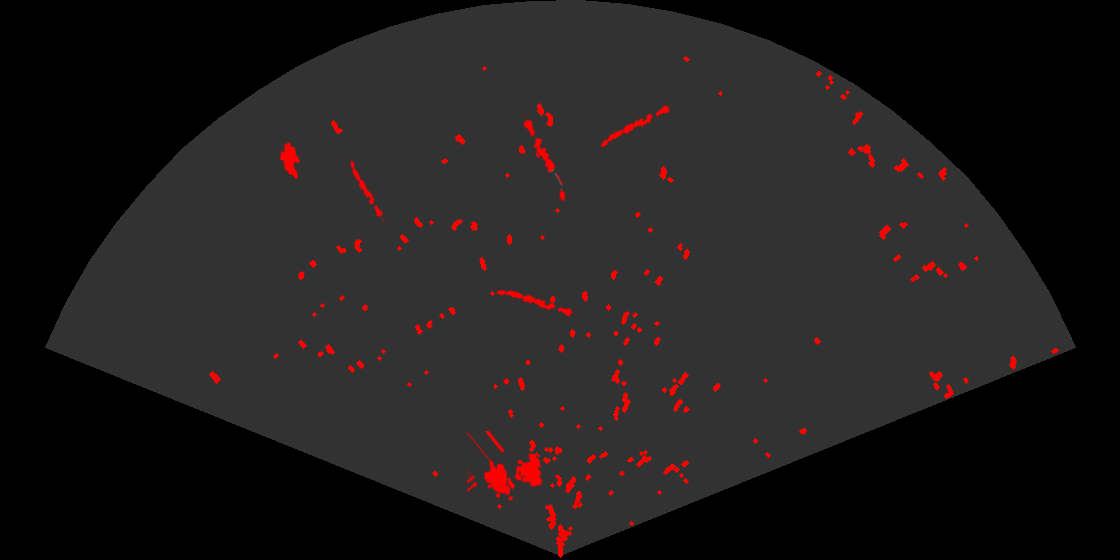AUV: (278, 140, 302, 181)
cage: (467, 431, 544, 502)
chain: (519, 110, 567, 203), (599, 103, 673, 149), (347, 157, 388, 223), (494, 288, 578, 318)
